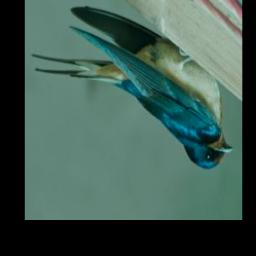Swallow: (31, 5, 233, 172)
